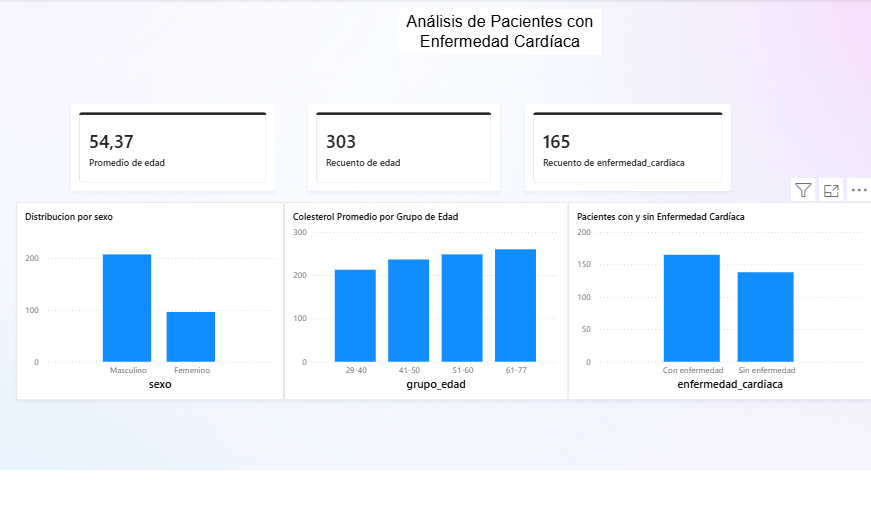

This screenshot's page, from the dashboard's own definition file:
{"tool":"powerbi","page":{"name":"Página 1","canvas":[1280,720],"ordinal":0},"visuals":[{"type":"cardVisual","fields":{"Data":["CountNonNull(pacientes_limpios.edad)"]},"box":[455.1,153.7,281,127.3],"z":0},{"type":"cardVisual","fields":{"Data":["Avg(pacientes_limpios.edad)"]},"box":[108.3,153.7,298.5,127.3],"z":1},{"type":"cardVisual","fields":{"Data":["CountNonNull(pacientes_limpios.enfermedad_cardiaca)"]},"box":[772.7,153.7,301.5,127.3],"z":2},{"type":"clusteredColumnChart","title":"Distribucion por sexo","fields":{"Category":["pacientes_limpios.sexo"],"Y":["CountNonNull(pacientes_limpios.edad)"]},"box":[27.8,297.1,392.2,289.8],"z":3},{"type":"clusteredColumnChart","title":"Colesterol Promedio por Grupo de Edad","fields":{"Y":["Avg(pacientes_limpios.colesterol)"],"Category":["pacientes_limpios.grupo_edad"]},"box":[420,297.1,415.6,289.8],"z":4},{"type":"clusteredColumnChart","title":"Pacientes con y sin Enfermedad Cardíaca","fields":{"Category":["pacientes_limpios.enfermedad_cardiaca"],"Y":["CountNonNull(pacientes_limpios.enfermedad_cardiaca)"]},"box":[835.6,297.1,444.9,289.8],"z":5},{"type":"textbox","box":[588.3,14.6,295.6,67.3],"z":6}]}

Visuals, with their boxes on the page's 1280x720 design canvas (x1, y1, x2, y2). These are canvas units, not pixel positions in the 871x514 screenshot, which may show the page scaled, cropped or inside an application window:
cardVisual - CountNonNull(pacientes_limpios.edad): left=455, top=154, right=736, bottom=281
cardVisual - Avg(pacientes_limpios.edad): left=108, top=154, right=407, bottom=281
cardVisual - CountNonNull(pacientes_limpios.enfermedad_cardiaca): left=773, top=154, right=1074, bottom=281
"Distribucion por sexo" clusteredColumnChart: left=28, top=297, right=420, bottom=587
"Colesterol Promedio por Grupo de Edad" clusteredColumnChart: left=420, top=297, right=836, bottom=587
"Pacientes con y sin Enfermedad Cardíaca" clusteredColumnChart: left=836, top=297, right=1280, bottom=587
textbox: left=588, top=15, right=884, bottom=82
